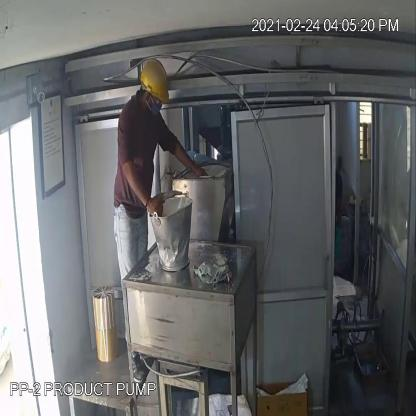helmet: (138, 54, 170, 104)
